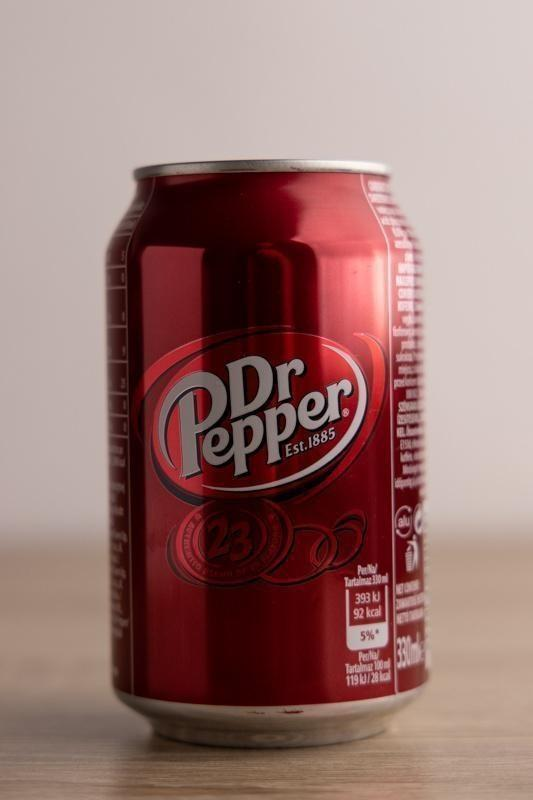tin can: (104, 153, 441, 754)
